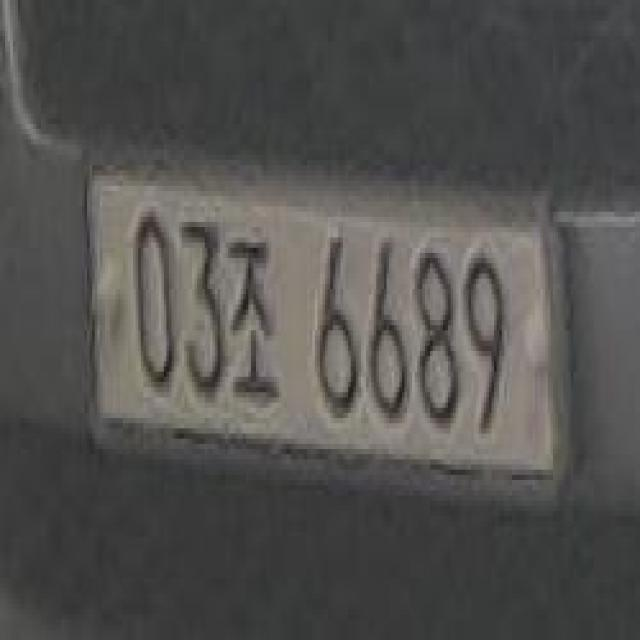illegal_plate: (89, 152, 567, 523)
